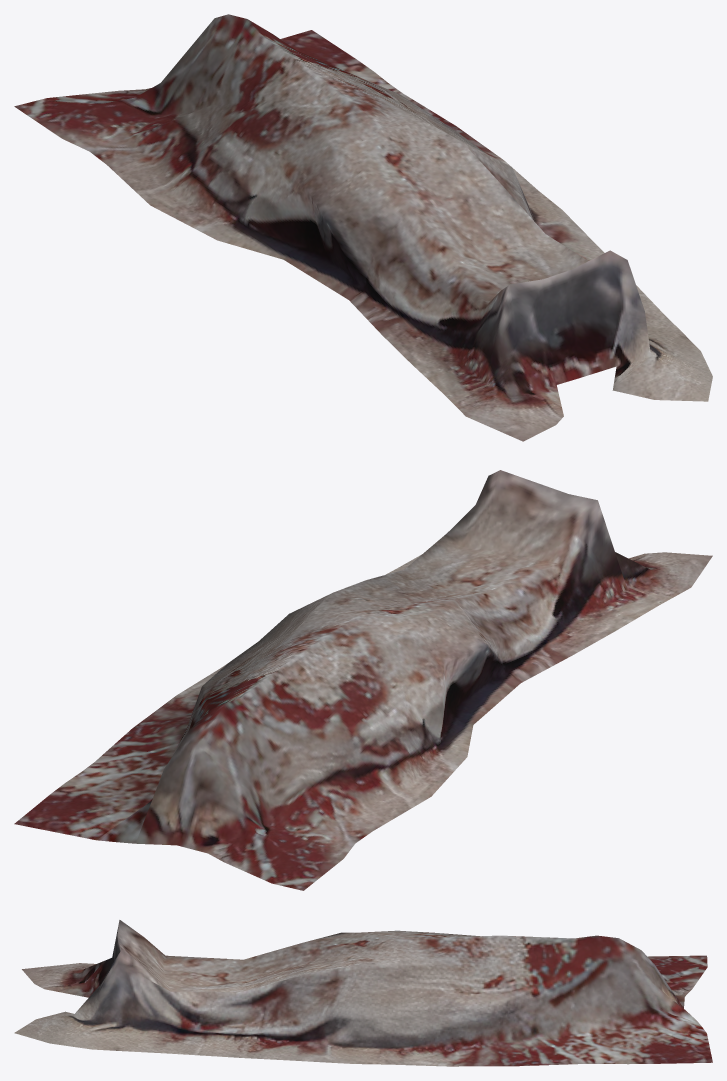
Rendered from covered_body.fbx.
The picture shows the model from 3 angles, top to bottom: view 1: azimuth 30°, elevation 25°; view 2: azimuth 150°, elevation 25°; view 3: azimuth 270°, elevation 25°; orthographic projection. The views are drawn at different scales.
Parts seen in each view (by area): view 1: dn_body1; view 2: dn_body1; view 3: dn_body1.
Part boxes in pixels (x1,y1,x2,y2): dn_body1: (14,14,712,441); dn_body1: (14,470,712,890); dn_body1: (14,920,712,1066).
Bounding box in the file's own units: 0.9735 × 0.3108 × 2.59.
1 material, 1 textured.
